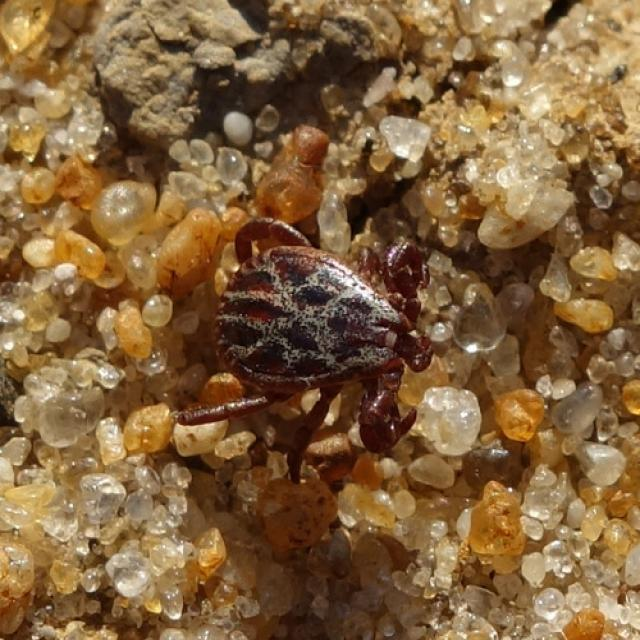Dermacentor Reticulatus-M: (175, 218, 438, 485)
